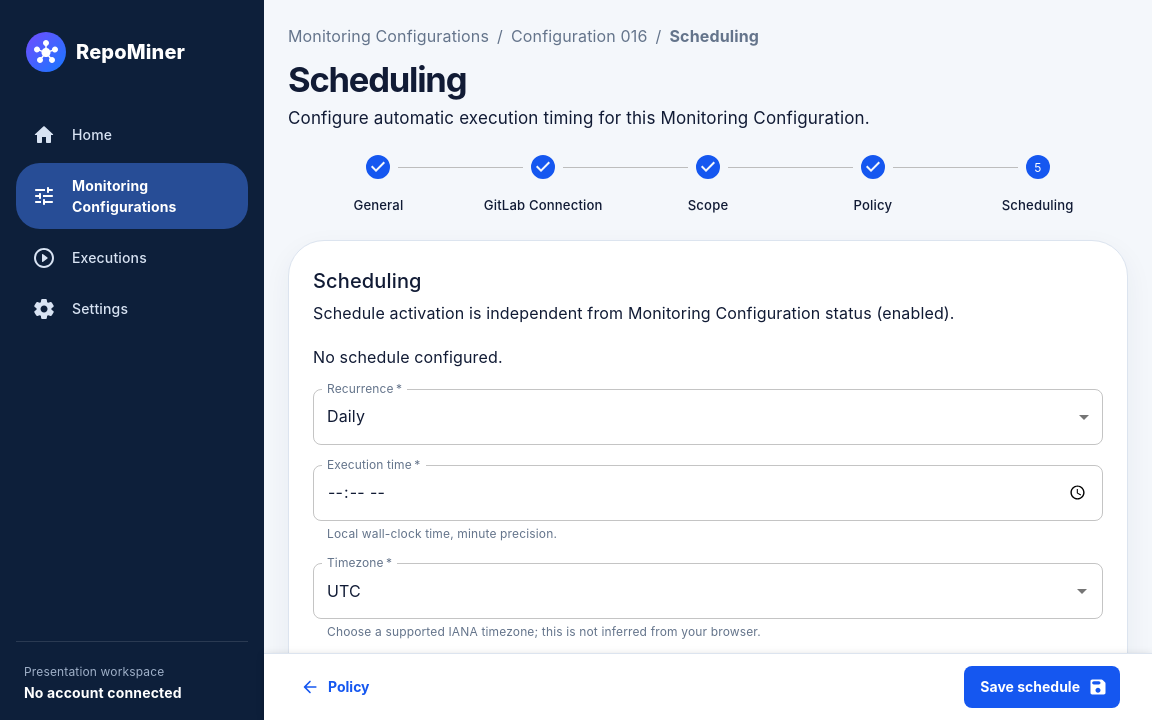
Scenario: returns an existing configuration edit flow to the list after a successful final save
This screenshot has width=1152, height=720.
Expected: the dropdown named "Recurrence" is shown, left=327, top=406, right=365, bottom=426
In the time field labelled "Execution time *": (708, 493) left=313, top=465, right=1103, bottom=521, type "01:00"
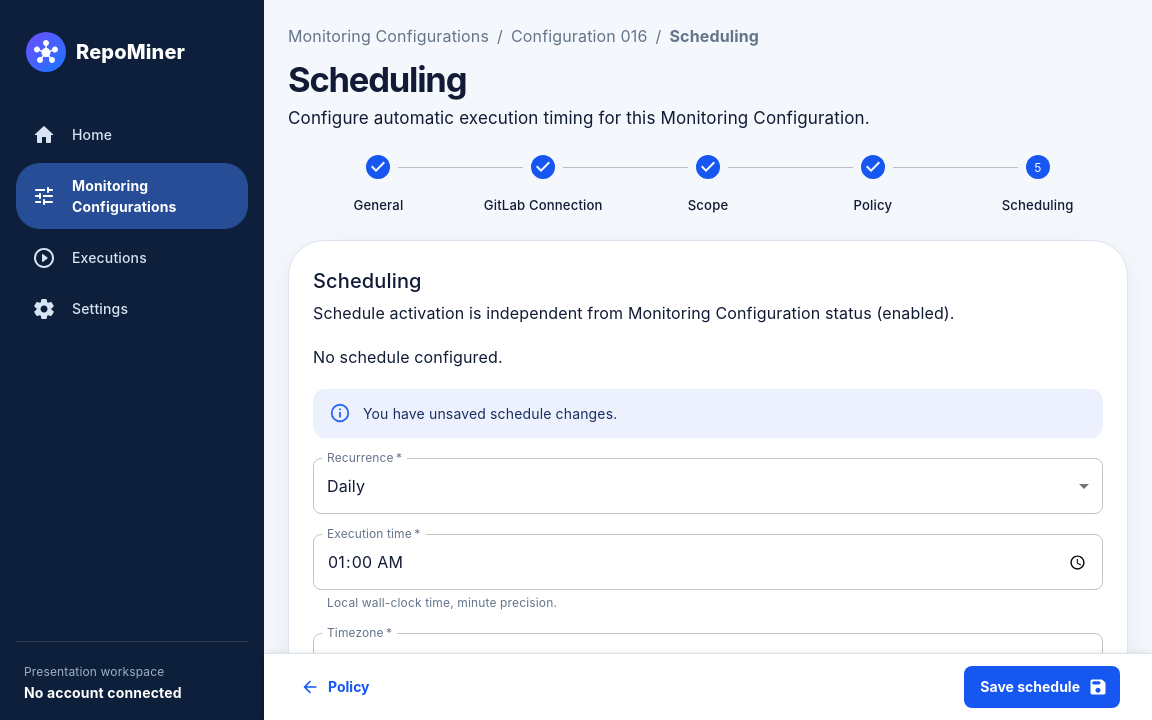
Click the button "Save schedule": (1042, 687) left=964, top=666, right=1120, bottom=708
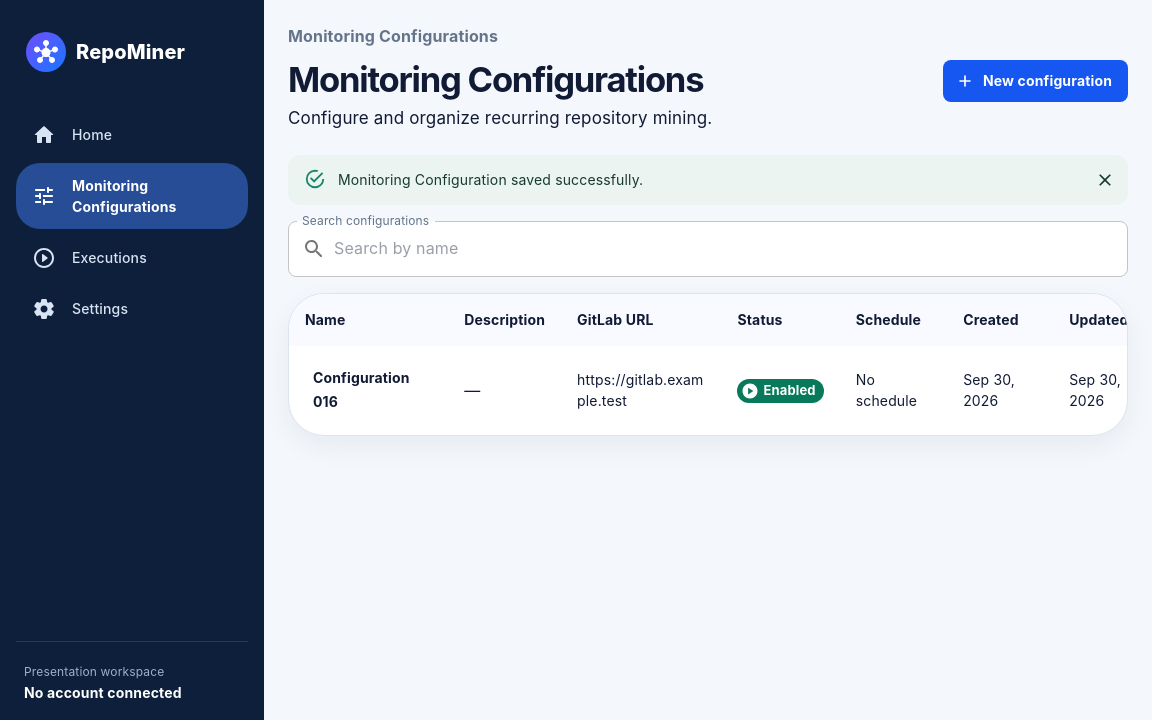
Expected: the text "Monitoring Configuration saved successfully." is shown, left=338, top=171, right=643, bottom=188
